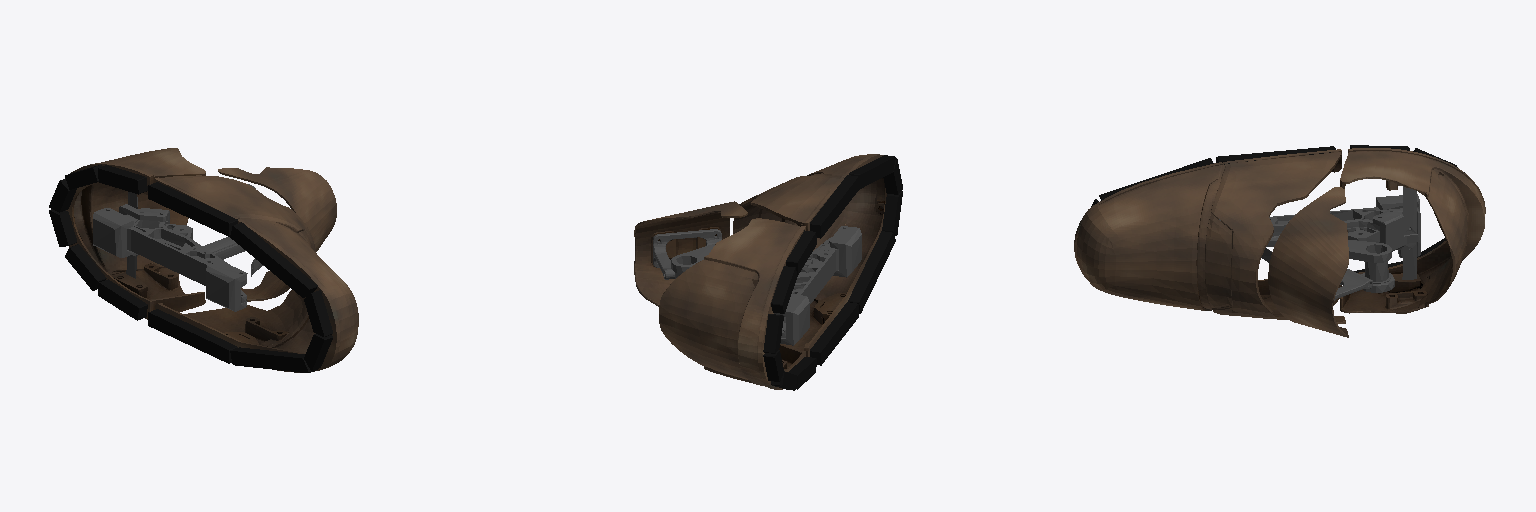
The picture shows the model from 3 angles: view 1: azimuth 30°, elevation 25°; view 2: azimuth 150°, elevation 25°; view 3: azimuth 270°, elevation 25°; orthographic projection.
Visible parts, largest first — view 1: foot_l; view 2: foot_l; view 3: foot_l.
Part boxes in pixels (left/top/right/bottom): foot_l: left=49, top=148, right=358, bottom=372; foot_l: left=634, top=154, right=902, bottom=390; foot_l: left=1074, top=145, right=1485, bottom=337.
Bounding box in the file's own units: 0.2036 × 0.1313 × 0.339.
Materials: 3 (1 with a texture image).